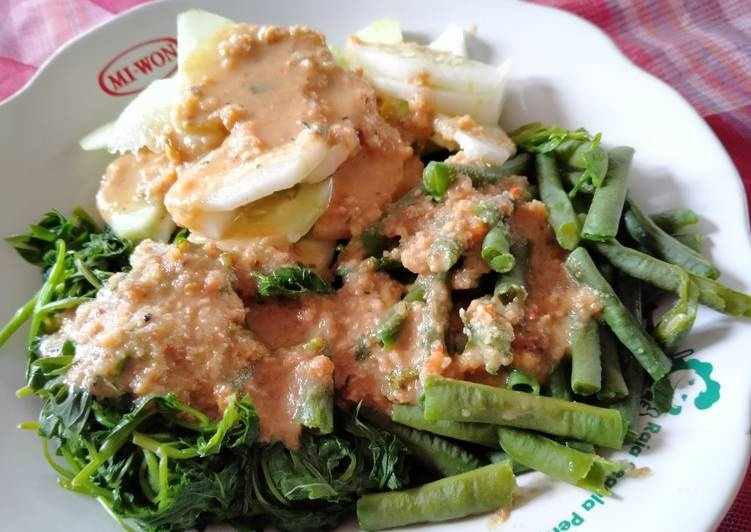pecel: (38, 48, 674, 506)
